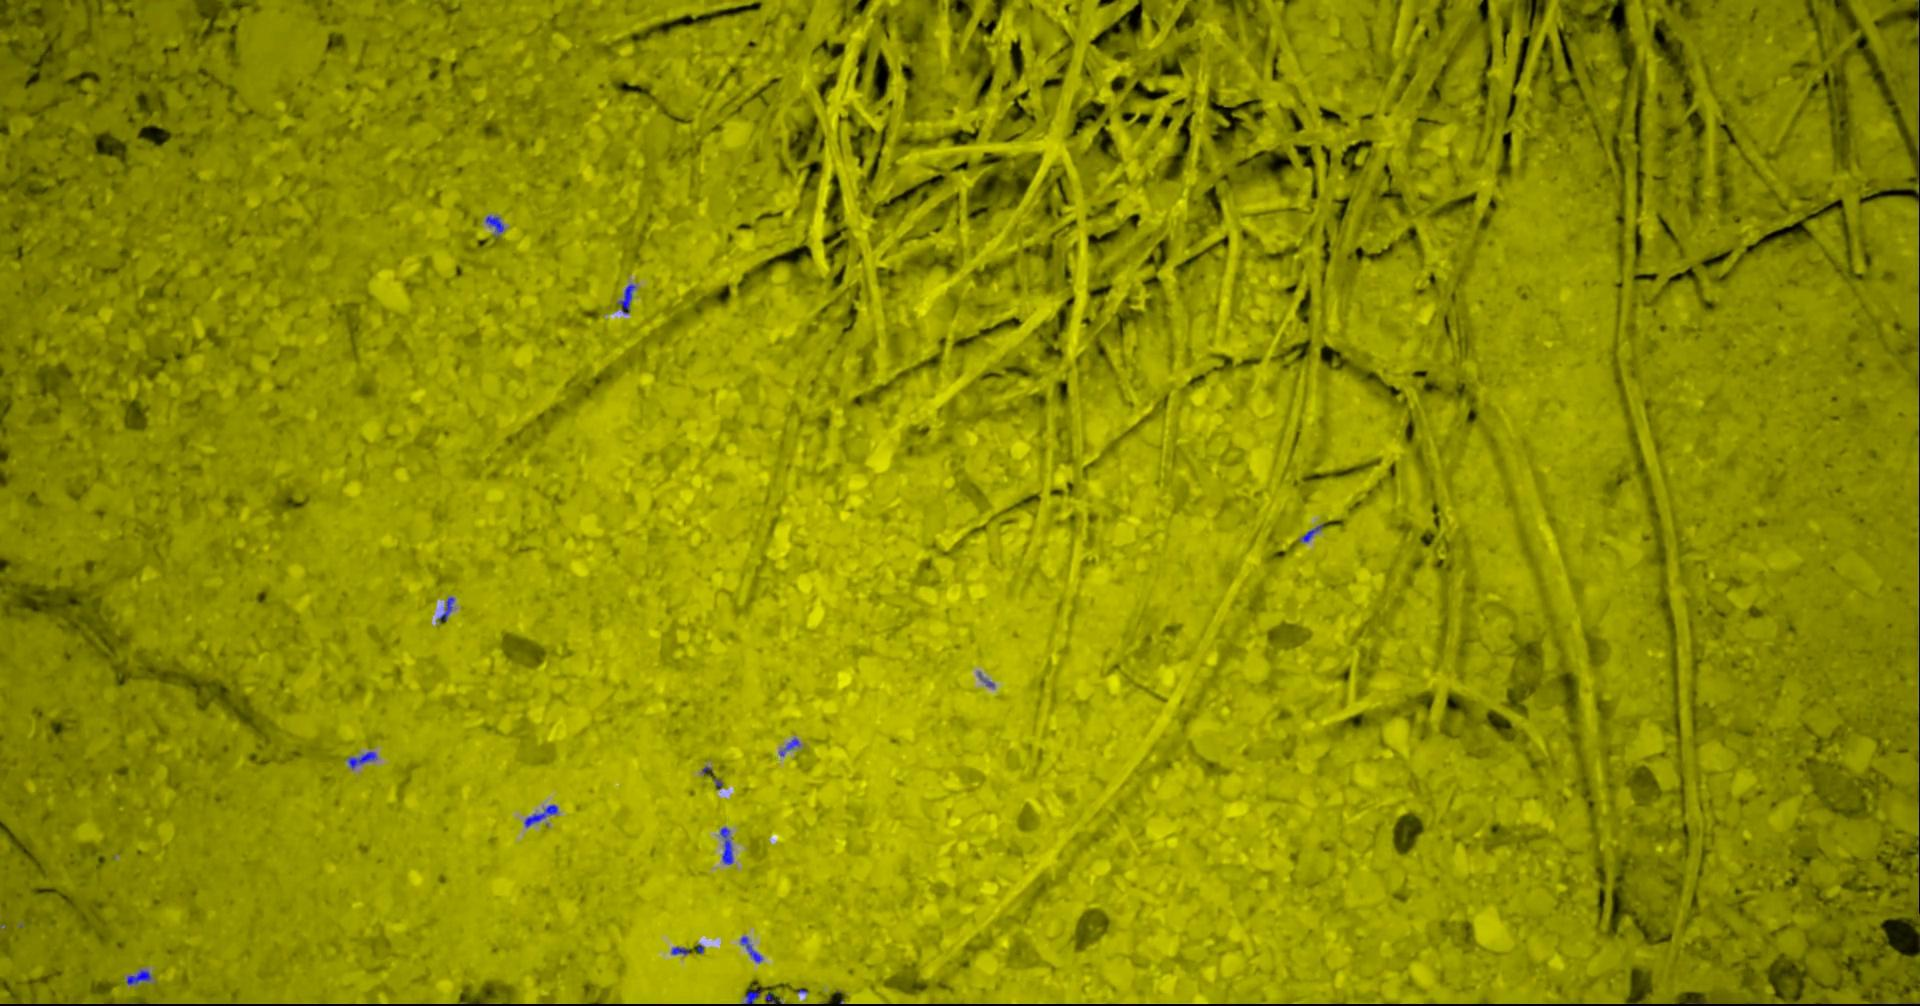ant: (526, 804, 559, 827), (742, 936, 764, 962), (349, 751, 378, 768), (721, 827, 735, 864), (620, 285, 637, 312), (1303, 523, 1324, 541), (439, 597, 456, 620), (128, 969, 152, 984), (781, 737, 801, 754), (488, 215, 505, 232), (745, 989, 761, 1005), (766, 993, 783, 1005), (673, 946, 691, 954)
